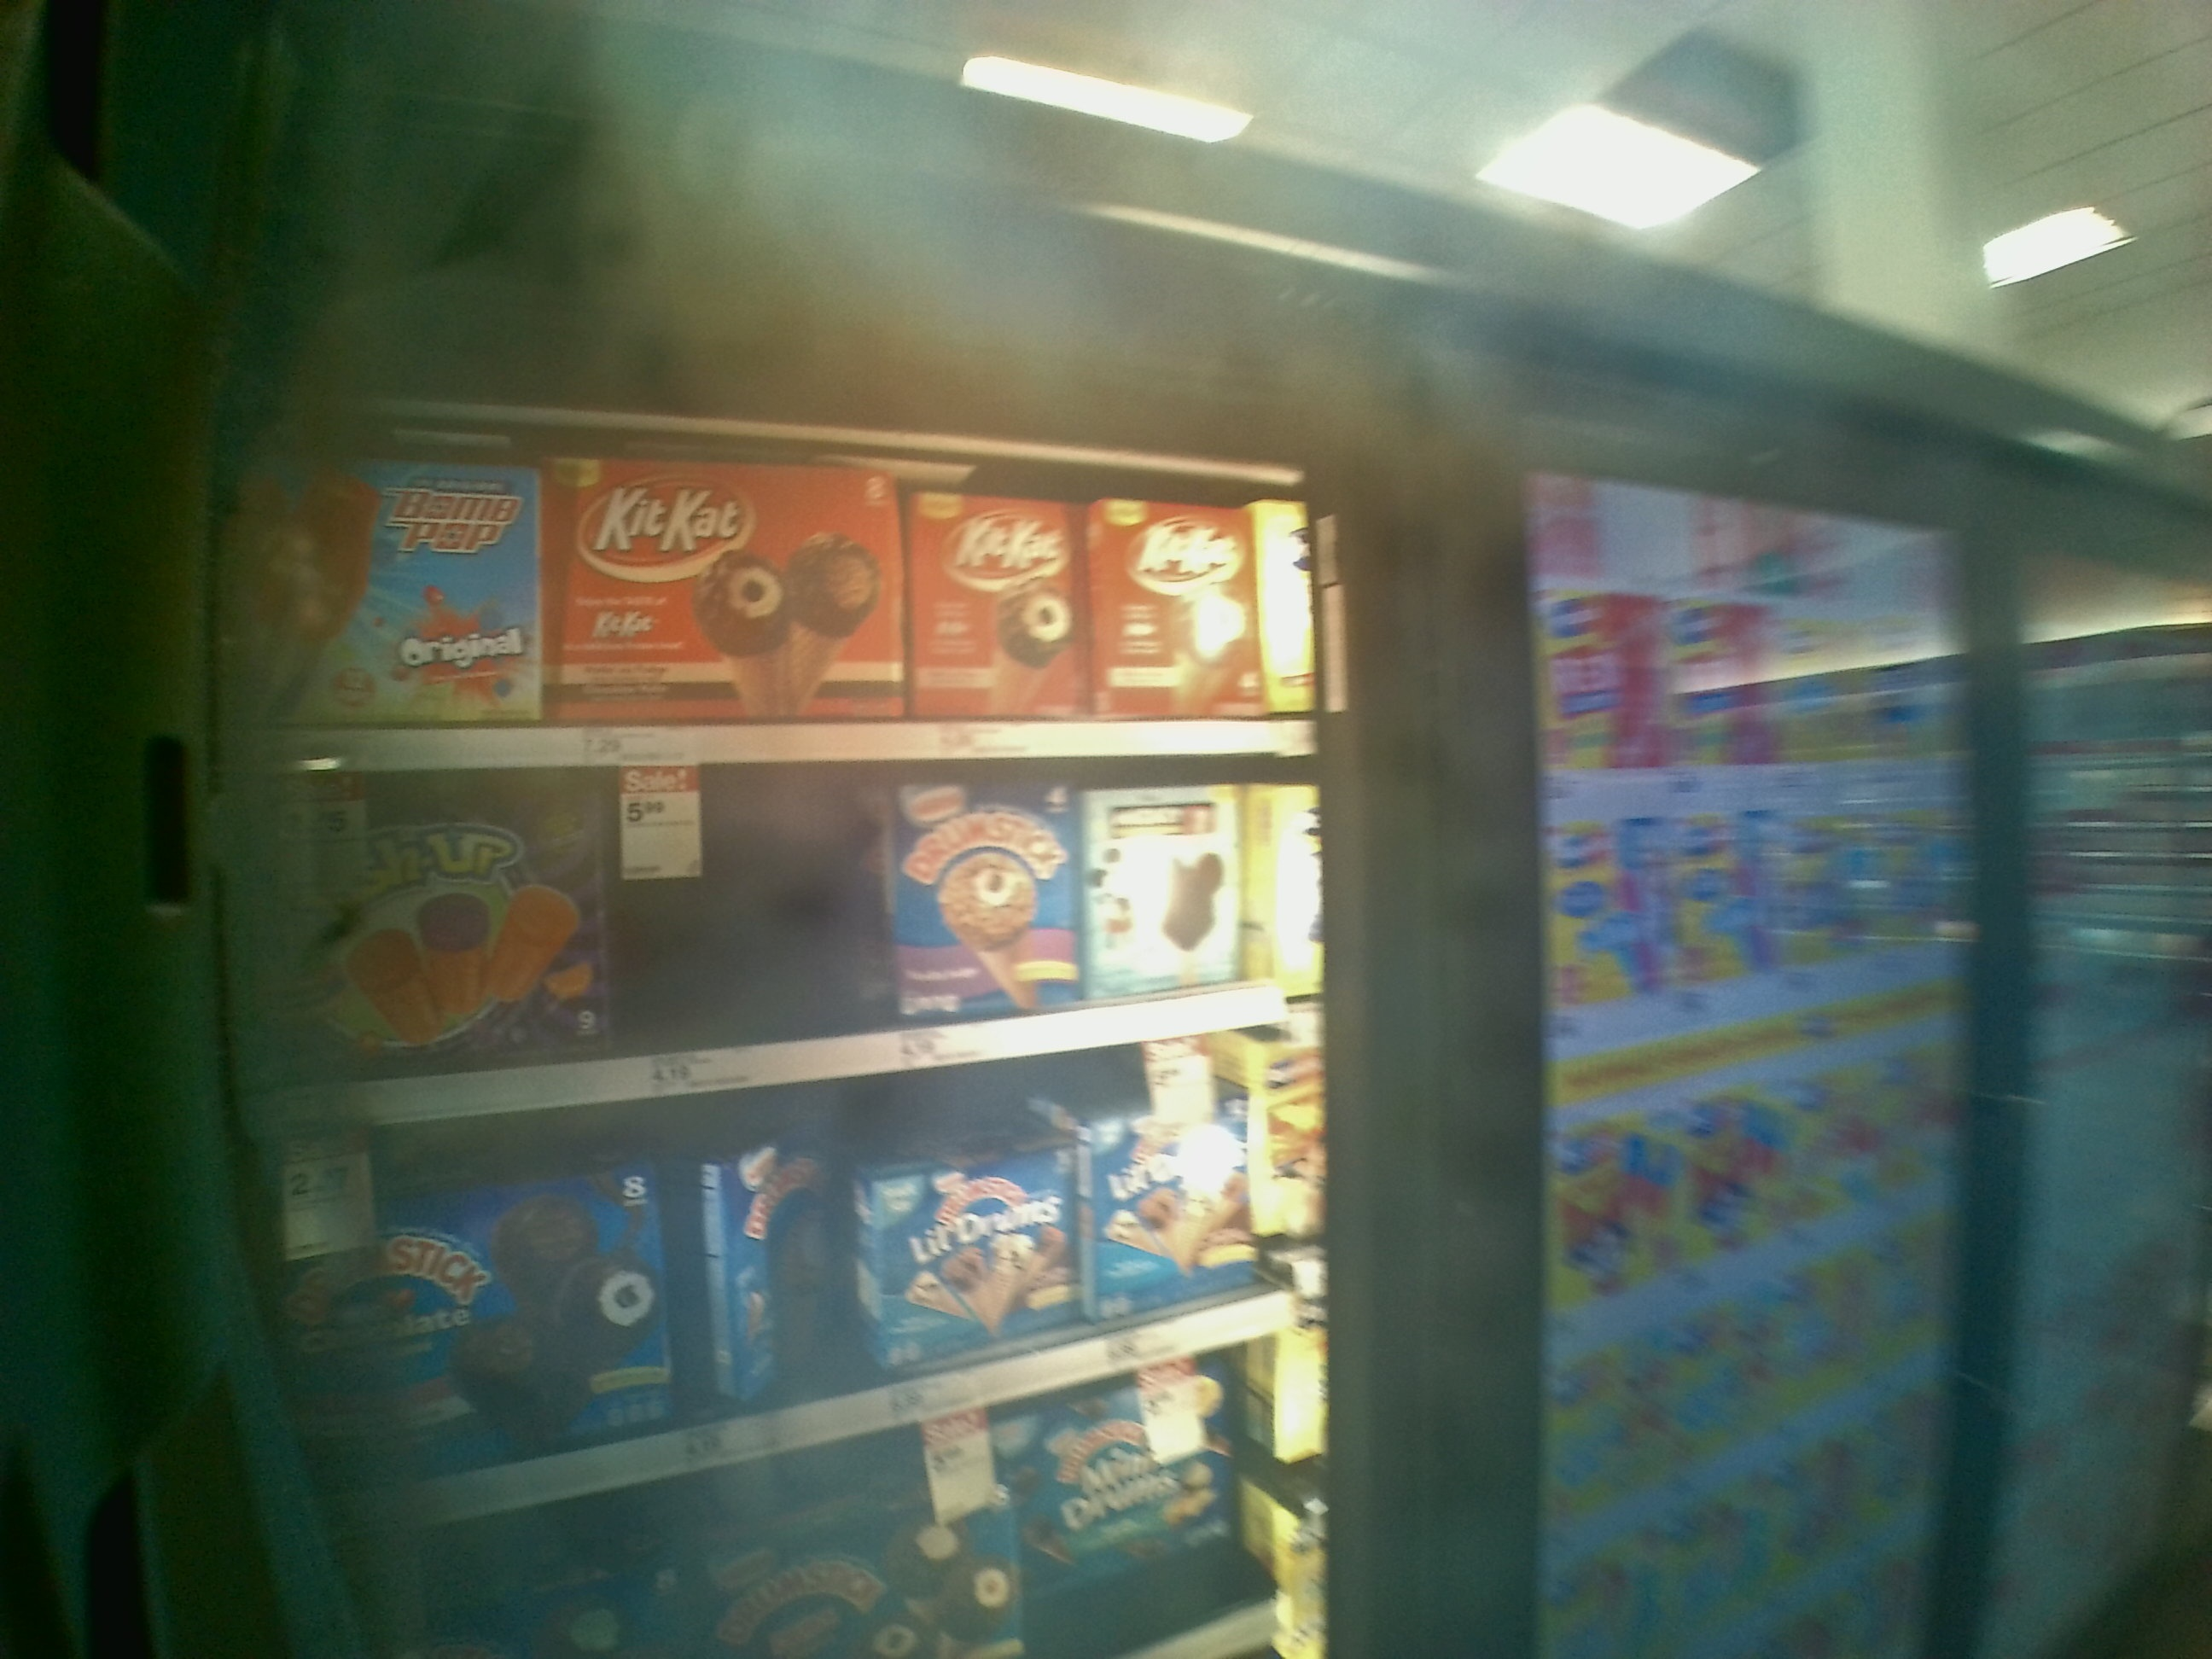shelf: (218, 762, 1331, 1119), (225, 413, 1334, 767)
